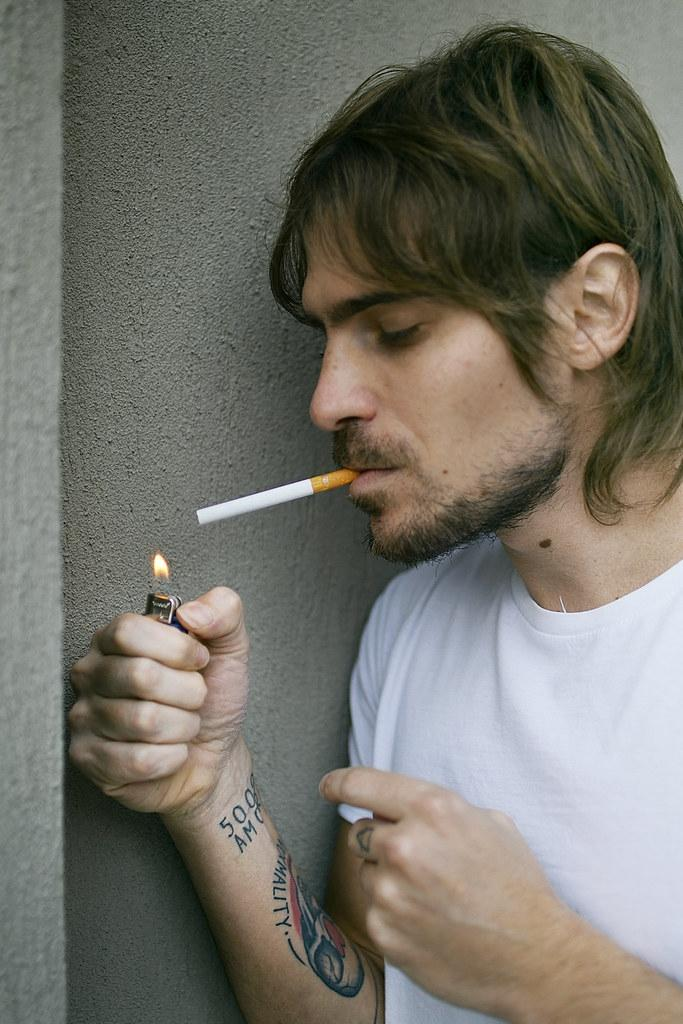cigarette: (188, 460, 375, 525)
